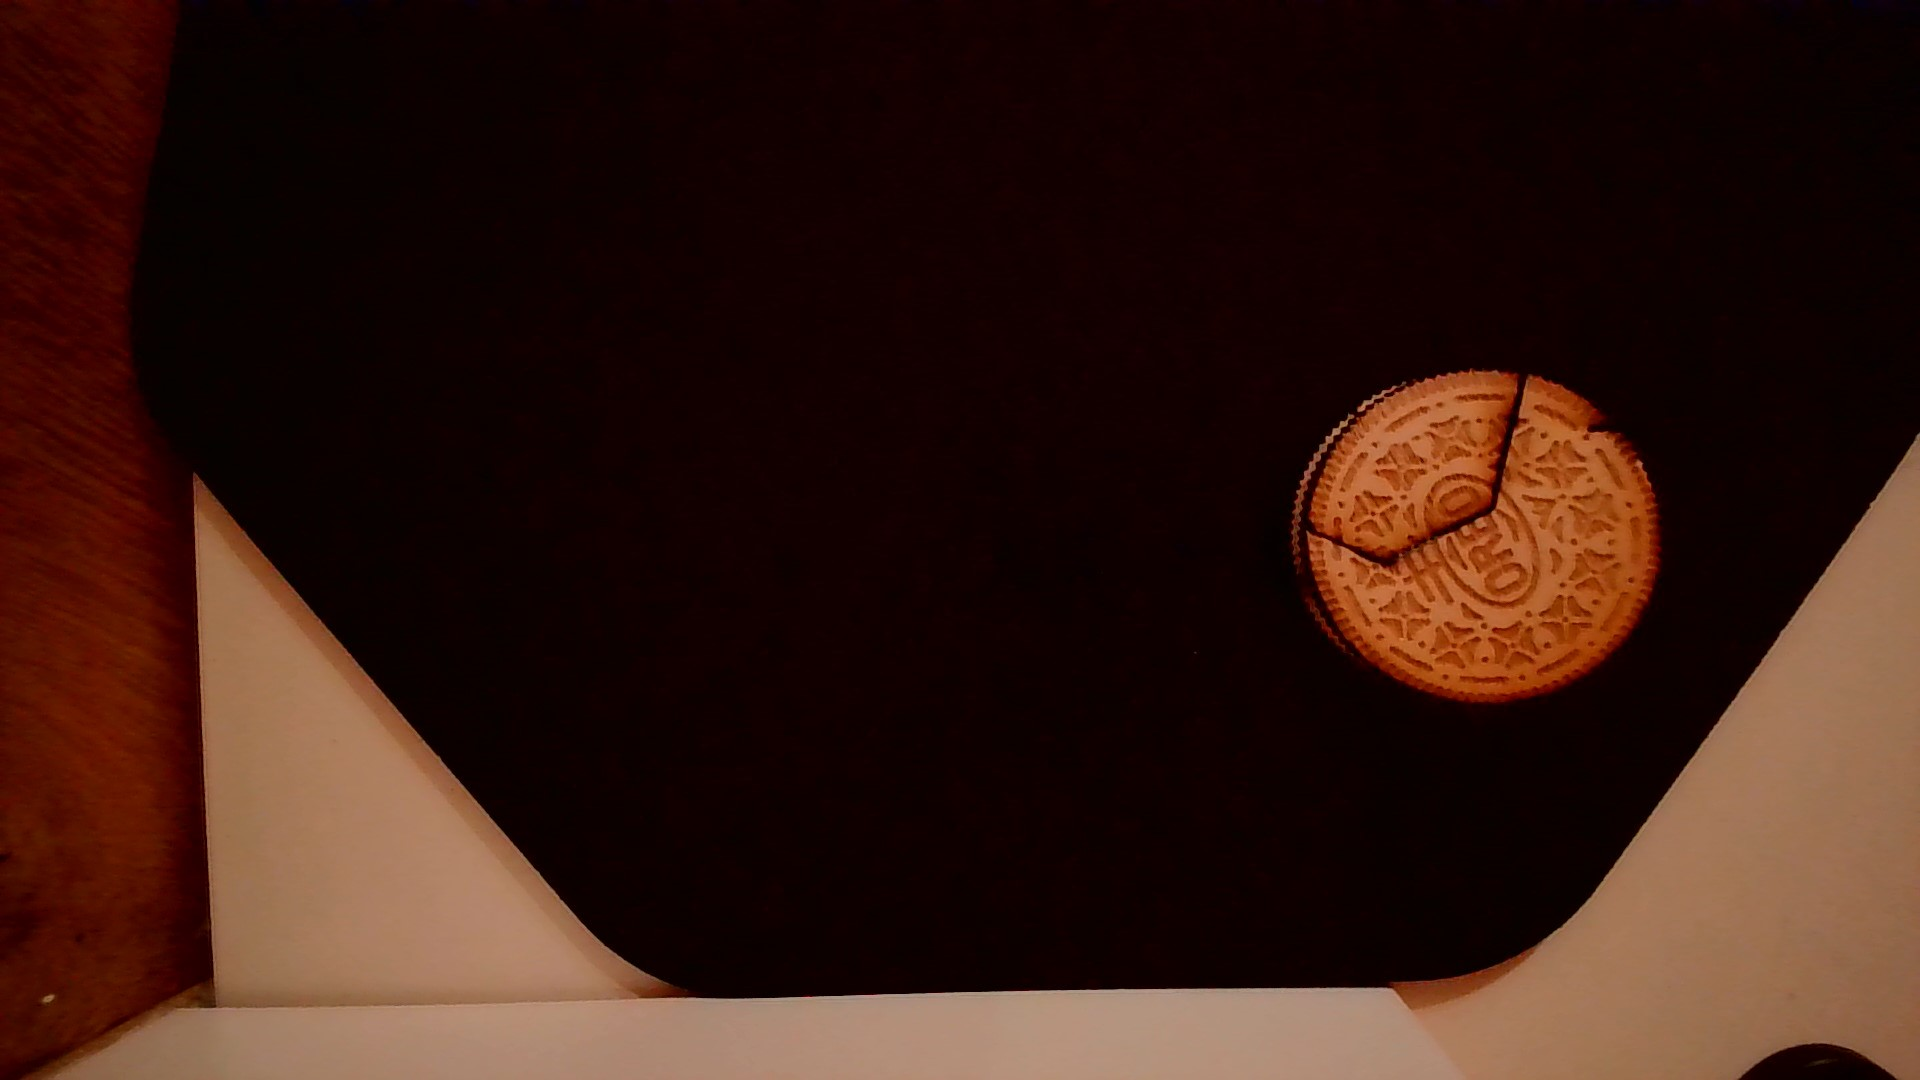Fissure: (1298, 368, 1543, 582), (1572, 404, 1627, 448)
Oréo: (1288, 357, 1669, 716)
